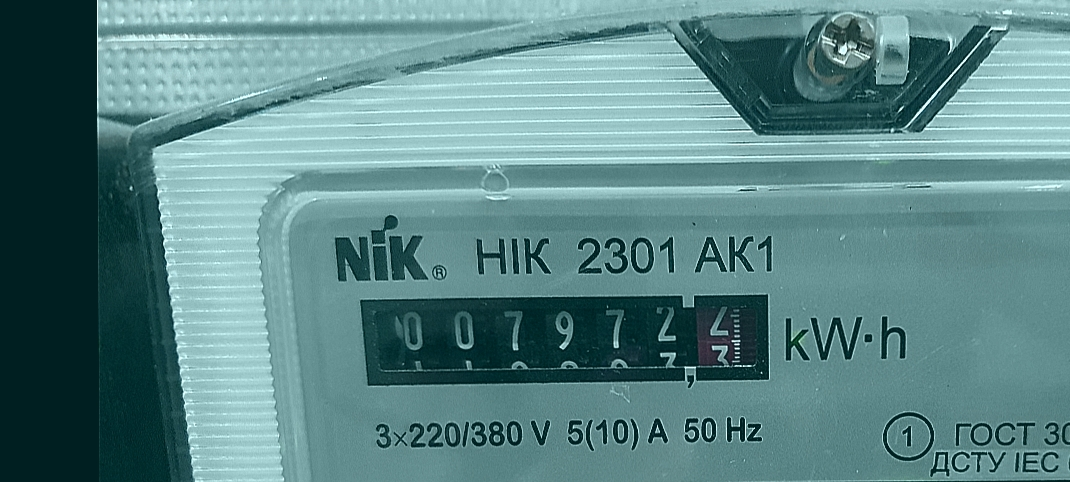0: (402, 309, 428, 351), (453, 308, 478, 350)
2: (657, 305, 680, 343), (708, 304, 731, 338)
3: (711, 342, 733, 367)
7: (604, 306, 630, 351), (503, 307, 528, 352)
9: (554, 307, 577, 351)
screen: (346, 282, 788, 399)
